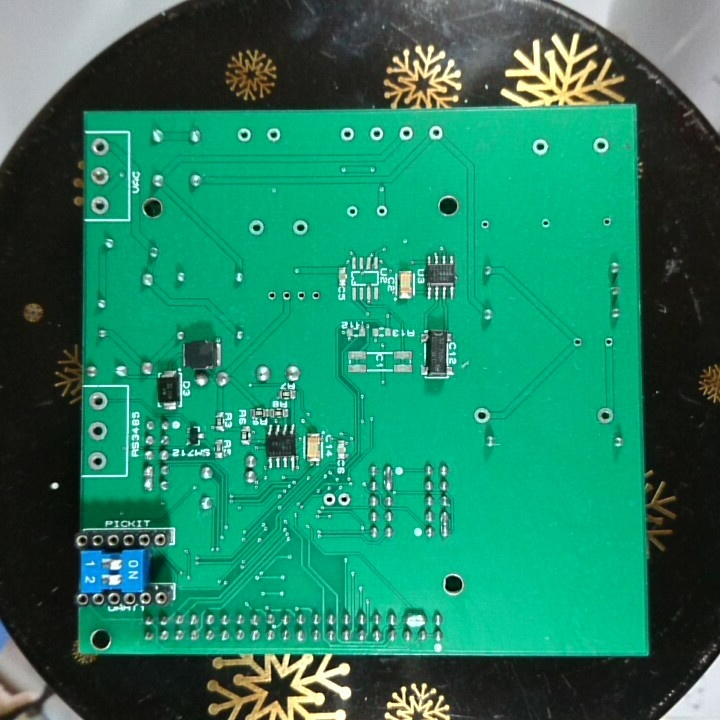F: (87, 388, 110, 412), (88, 193, 111, 216), (89, 136, 113, 158), (87, 419, 109, 443), (86, 449, 109, 471), (471, 404, 494, 426), (595, 403, 616, 427), (88, 165, 111, 186), (288, 217, 312, 237), (246, 216, 267, 238), (591, 135, 611, 158), (530, 136, 550, 158), (262, 126, 284, 144), (427, 123, 445, 143), (336, 489, 352, 511), (234, 127, 254, 144), (321, 489, 337, 510), (367, 124, 385, 142), (397, 124, 414, 143), (338, 126, 357, 143), (279, 286, 294, 306), (309, 286, 322, 307), (538, 215, 554, 232), (294, 286, 309, 304), (599, 215, 615, 231), (374, 202, 389, 219), (344, 203, 359, 220), (265, 287, 279, 304), (570, 334, 584, 350), (477, 218, 492, 232), (601, 335, 615, 349)
P: (399, 609, 427, 628), (381, 461, 397, 493), (139, 462, 154, 492), (437, 508, 451, 539)
